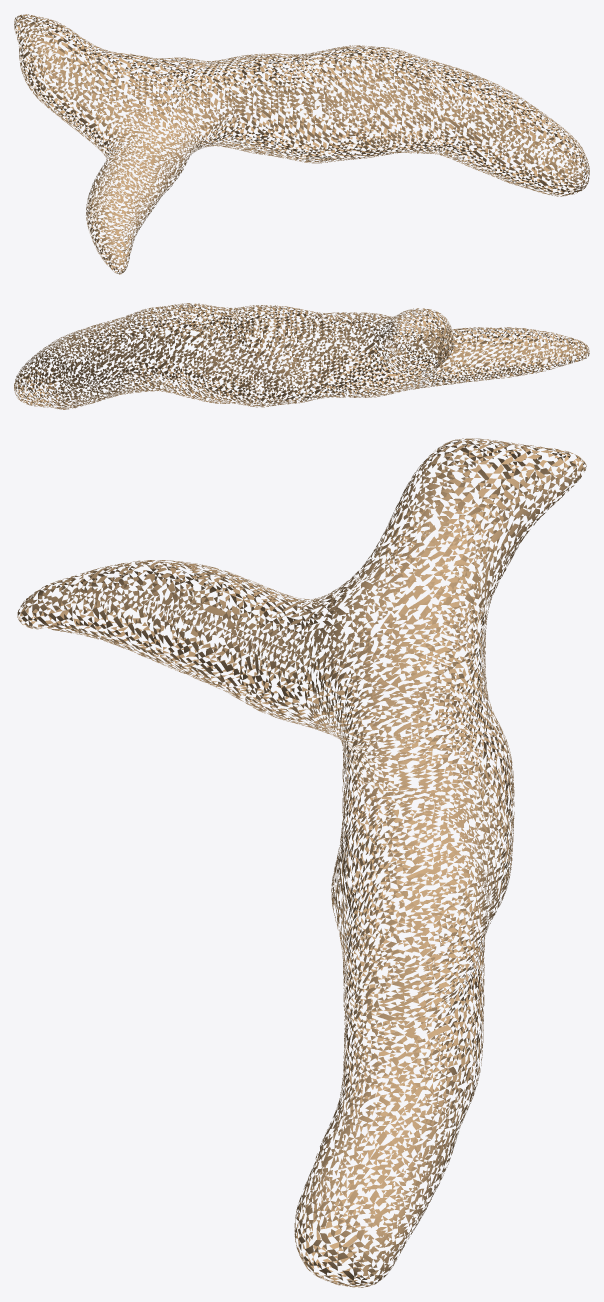
File: morph_006.glb
The picture shows the model from 3 angles, top to bottom: view 1: azimuth 30°, elevation 25°; view 2: azimuth 150°, elevation 25°; view 3: azimuth 270°, elevation 25°; orthographic projection. The views are drawn at different scales.
Size of the model in its own units: 118 by 49.76 by 59.03.
